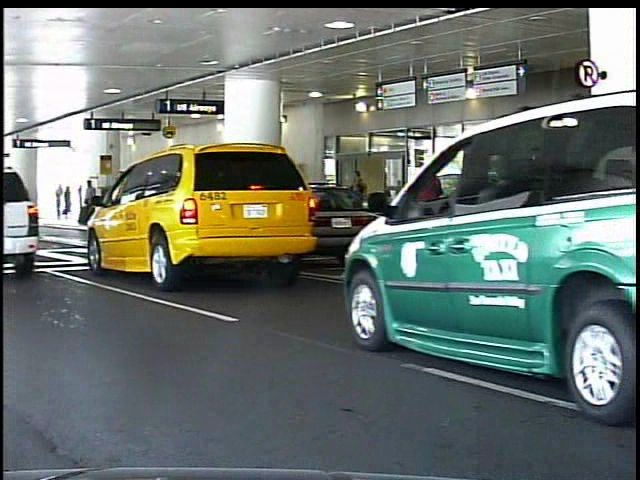person: (348, 167, 374, 240), (83, 178, 101, 228), (65, 184, 77, 224), (59, 183, 70, 224)
